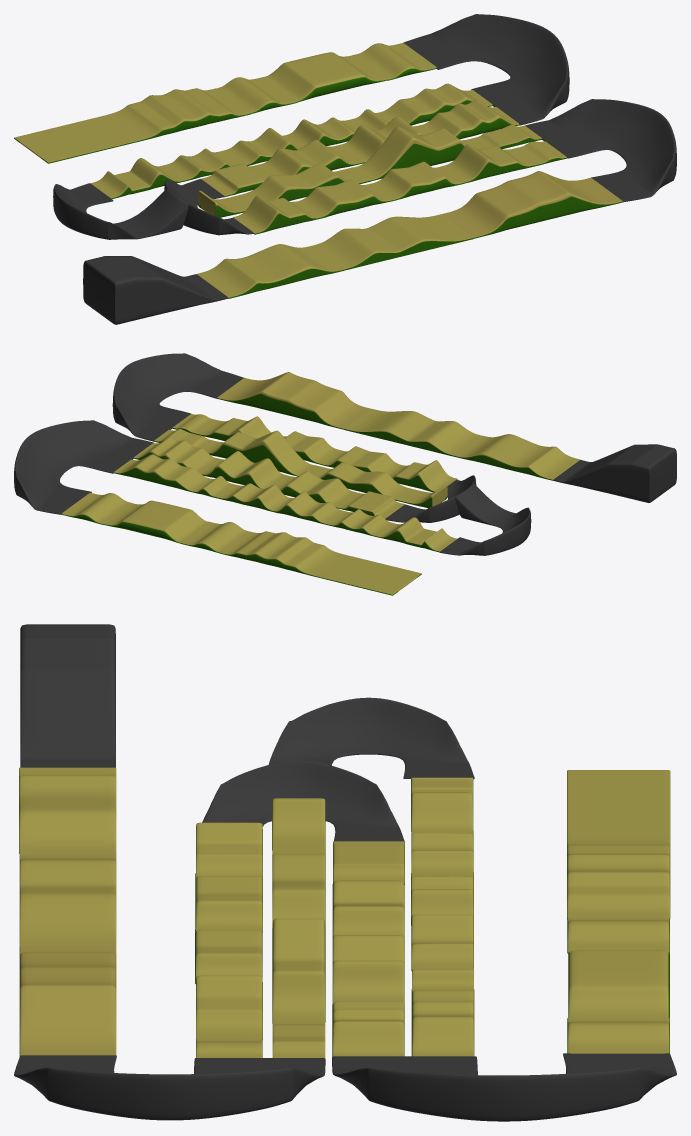
Rendered from Track.fbx.
3 renders of one model, top to bottom at view 1: azimuth 30°, elevation 25°; view 2: azimuth 150°, elevation 25°; view 3: azimuth 270°, elevation 25°, orthographic. The views are drawn at different scales.
Visible parts, largest first — view 1: Starting_Hill:pCube2; view 2: Starting_Hill:pCube2; view 3: Starting_Hill:pCube2.
Boxes of the visible parts, x1,y1,x2,y2 form: Starting_Hill:pCube2: (14, 14, 676, 324); Starting_Hill:pCube2: (14, 353, 676, 595); Starting_Hill:pCube2: (14, 624, 676, 1121).
Bounding box in the file's own units: 206 × 14.13 × 132.
